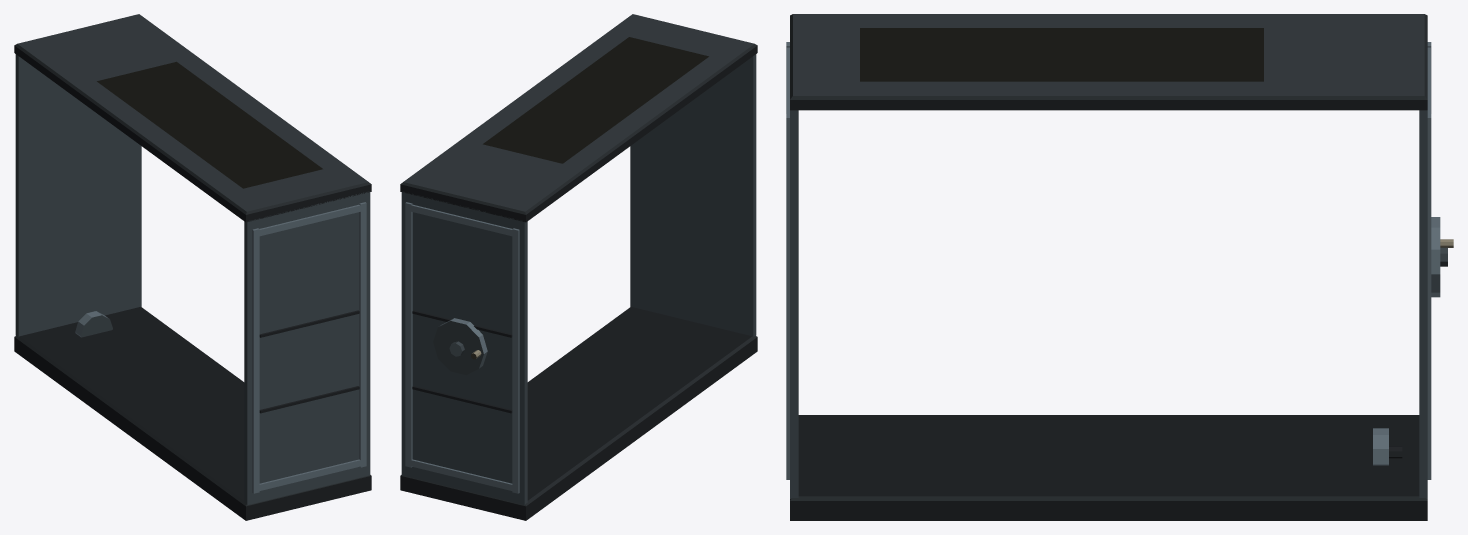
The model's file is lp_stack_carriage.glb.
The picture shows the model from 3 angles, left to right: view 1: azimuth 30°, elevation 25°; view 2: azimuth 150°, elevation 25°; view 3: azimuth 270°, elevation 25°; orthographic projection. The views are drawn at different scales.
Visible parts, largest first — view 1: lp_stack_carriage; view 2: lp_stack_carriage; view 3: lp_stack_carriage.
Part boxes in pixels (x1,y1,x2,y2): lp_stack_carriage: (14,14,371,520); lp_stack_carriage: (400,14,757,520); lp_stack_carriage: (786,14,1453,520).
Bounding box in the file's own units: 0.94 × 2.2 × 3.14.
1 material, 1 textured.
